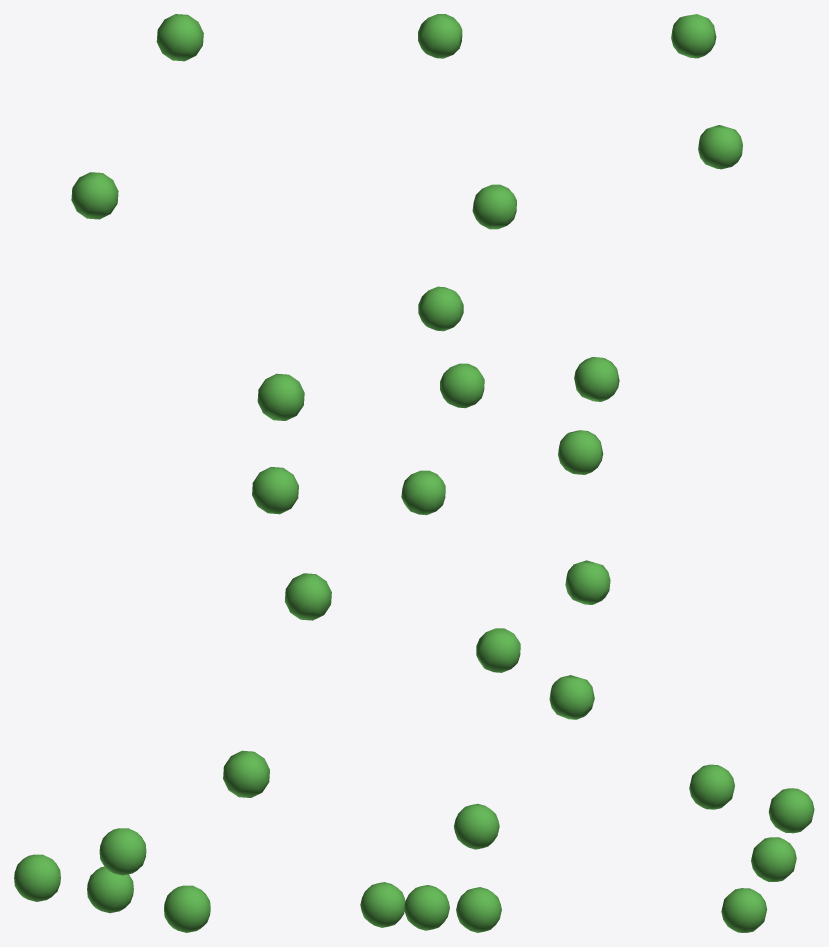
File: linfatico-inferior-deep-lateral-cervical-nodes-r.glb
3 views of the same model, side by side, from view 1: azimuth 30°, elevation 25°; view 2: azimuth 150°, elevation 25°; view 3: azimuth 270°, elevation 25° (orthographic). The views are drawn at different scales.
Visible parts, largest first — view 1: Anterior inferior jugular nodes.r, Inferior deep lateral cervical nodes.r; view 2: Anterior inferior jugular nodes.r, Inferior deep lateral cervical nodes.r; view 3: Anterior inferior jugular nodes.r, Inferior deep lateral cervical nodes.r.
Part boxes in pixels (box(x1,y1,x2,y2)): Anterior inferior jugular nodes.r: box(71, 14, 331, 797); Inferior deep lateral cervical nodes.r: box(14, 828, 210, 932); Anterior inferior jugular nodes.r: box(401, 14, 520, 672); Inferior deep lateral cervical nodes.r: box(360, 803, 501, 932); Anterior inferior jugular nodes.r: box(549, 14, 742, 719); Inferior deep lateral cervical nodes.r: box(689, 764, 814, 932).
Bounding box in the file's own units: 0.0128 × 0.056 × 0.0149.
